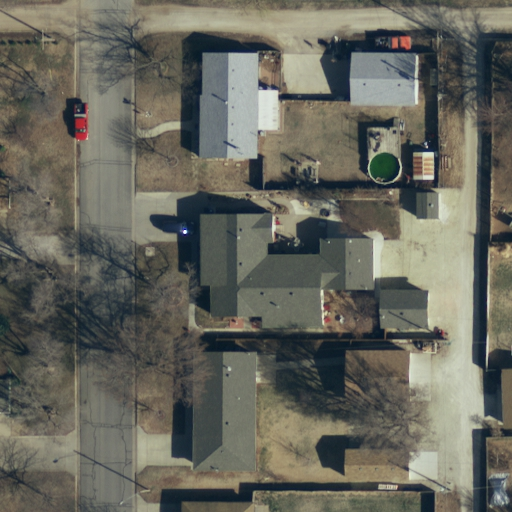DT: (34, 27, 61, 55)
